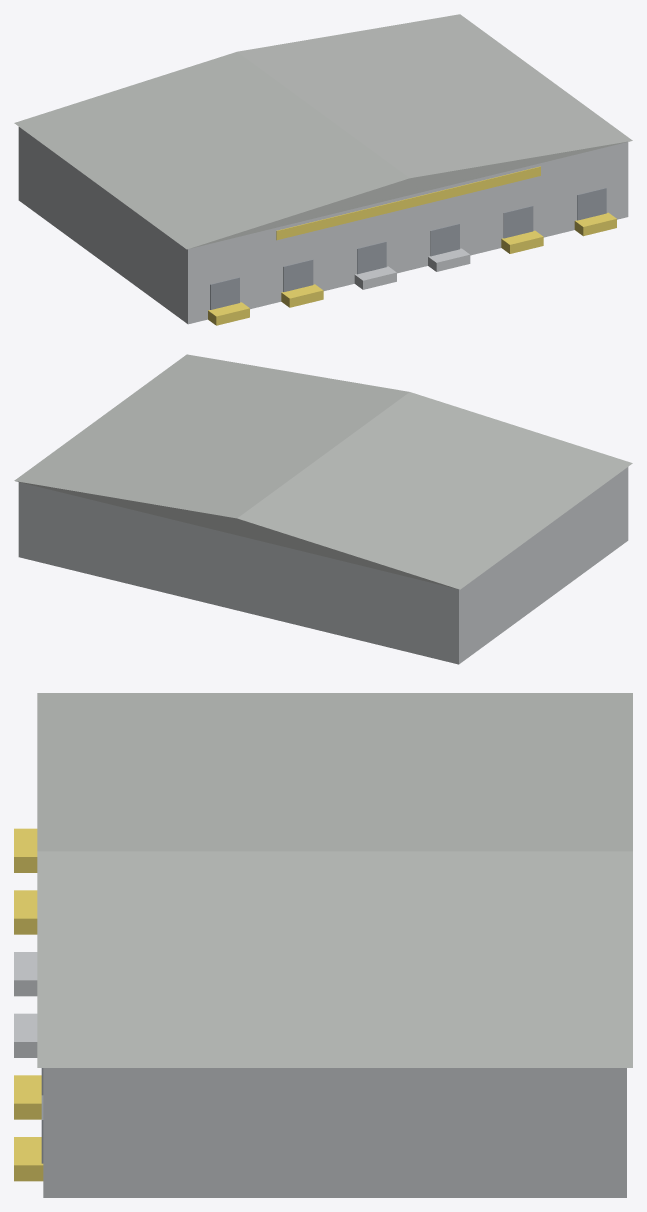
File: SM_Warehouse_A.fbx
3 views of the same model, one above another, from view 1: azimuth 30°, elevation 25°; view 2: azimuth 150°, elevation 25°; view 3: azimuth 270°, elevation 25° (orthographic). The views are drawn at different scales.
Visible parts, largest first — view 1: SM_Warehouse_A_LOD0; view 2: SM_Warehouse_A_LOD0; view 3: SM_Warehouse_A_LOD0.
Boxes of the visible parts, bbox=[...] form: SM_Warehouse_A_LOD0: bbox=[14, 14, 632, 325]; SM_Warehouse_A_LOD0: bbox=[14, 354, 632, 664]; SM_Warehouse_A_LOD0: bbox=[14, 693, 632, 1197].
Size of what is drawn, in the model's own units: 60.8 by 12.2 by 42.4.
